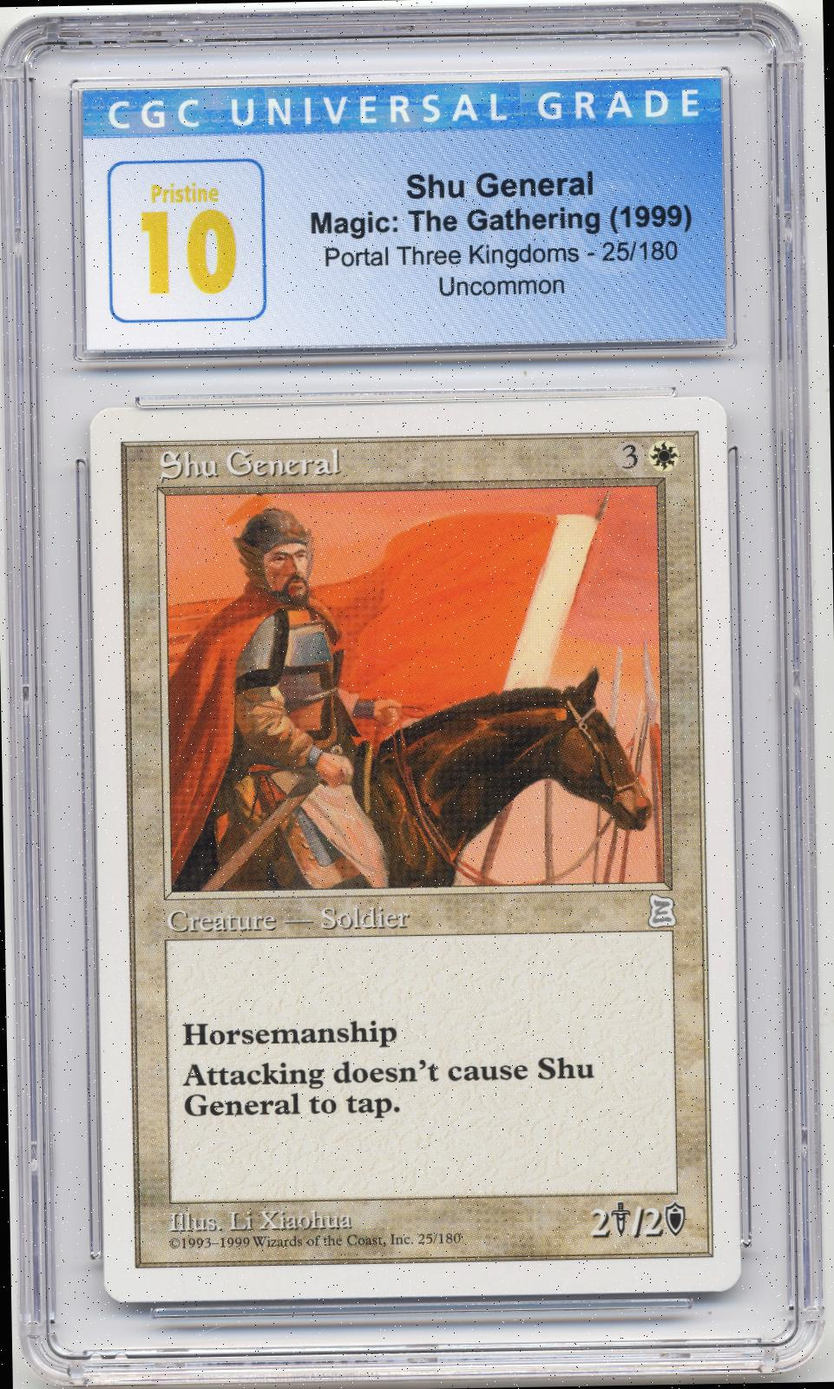card-2UtV: (88, 396, 742, 1304)
